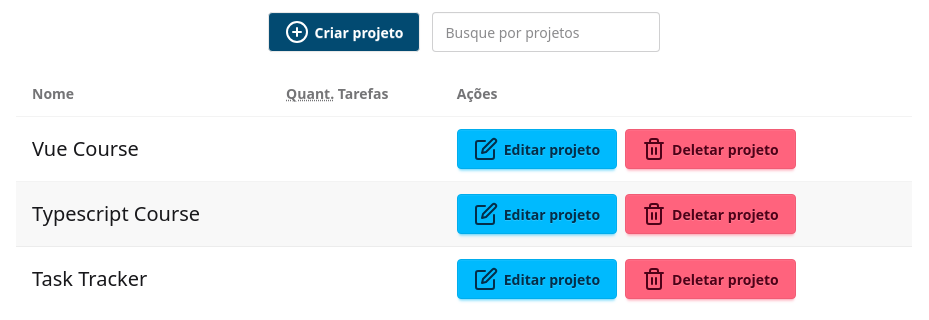
Test: <ProjectsView /> › should filter the projects properly
In the field with test id "search-project": (546, 32) [432,12,660,52], type "course"
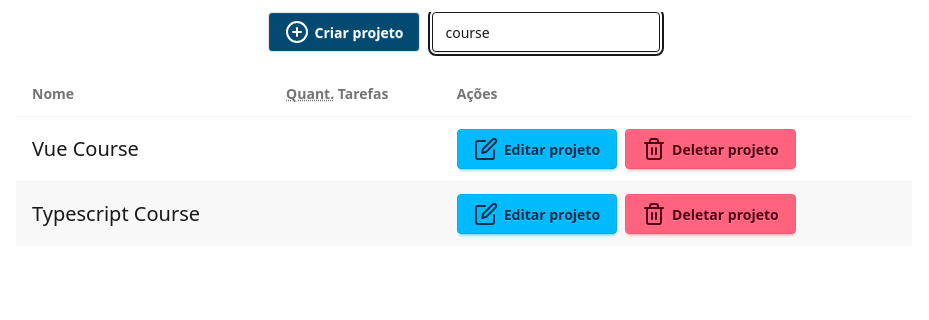
expect the number of rows with test id "project-item" is 2: met, box [16,117,912,182]; [16,182,912,246]
